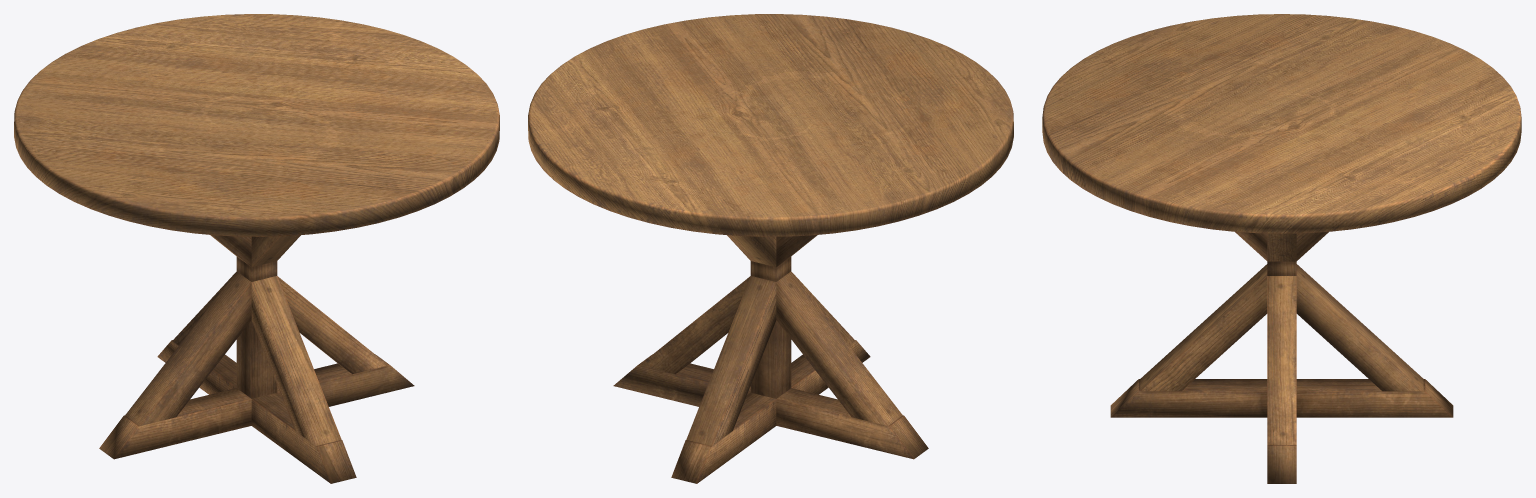
The model's file is table.glb.
3 renders of one model, left to right at view 1: azimuth 30°, elevation 25°; view 2: azimuth 150°, elevation 25°; view 3: azimuth 270°, elevation 25°, orthographic.
Visible parts, largest first — view 1: Table 05; view 2: Table 05; view 3: Table 05.
Boxes of the visible parts, box(x1,y1,x2,y2) form: Table 05: box(14, 14, 499, 483); Table 05: box(528, 14, 1013, 483); Table 05: box(1042, 14, 1521, 483).
Size of the model in its own units: 1.08 by 0.7383 by 1.08.
Materials: 1 (1 with a texture image).
